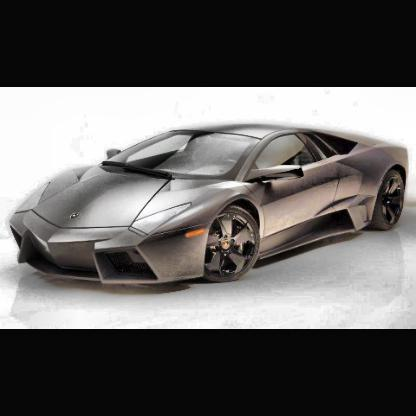Lamborghini Reventon Coupe 2008: (11, 125, 410, 288)
